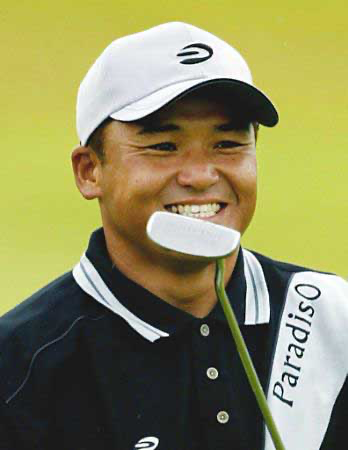Face: (106, 110, 264, 271)
